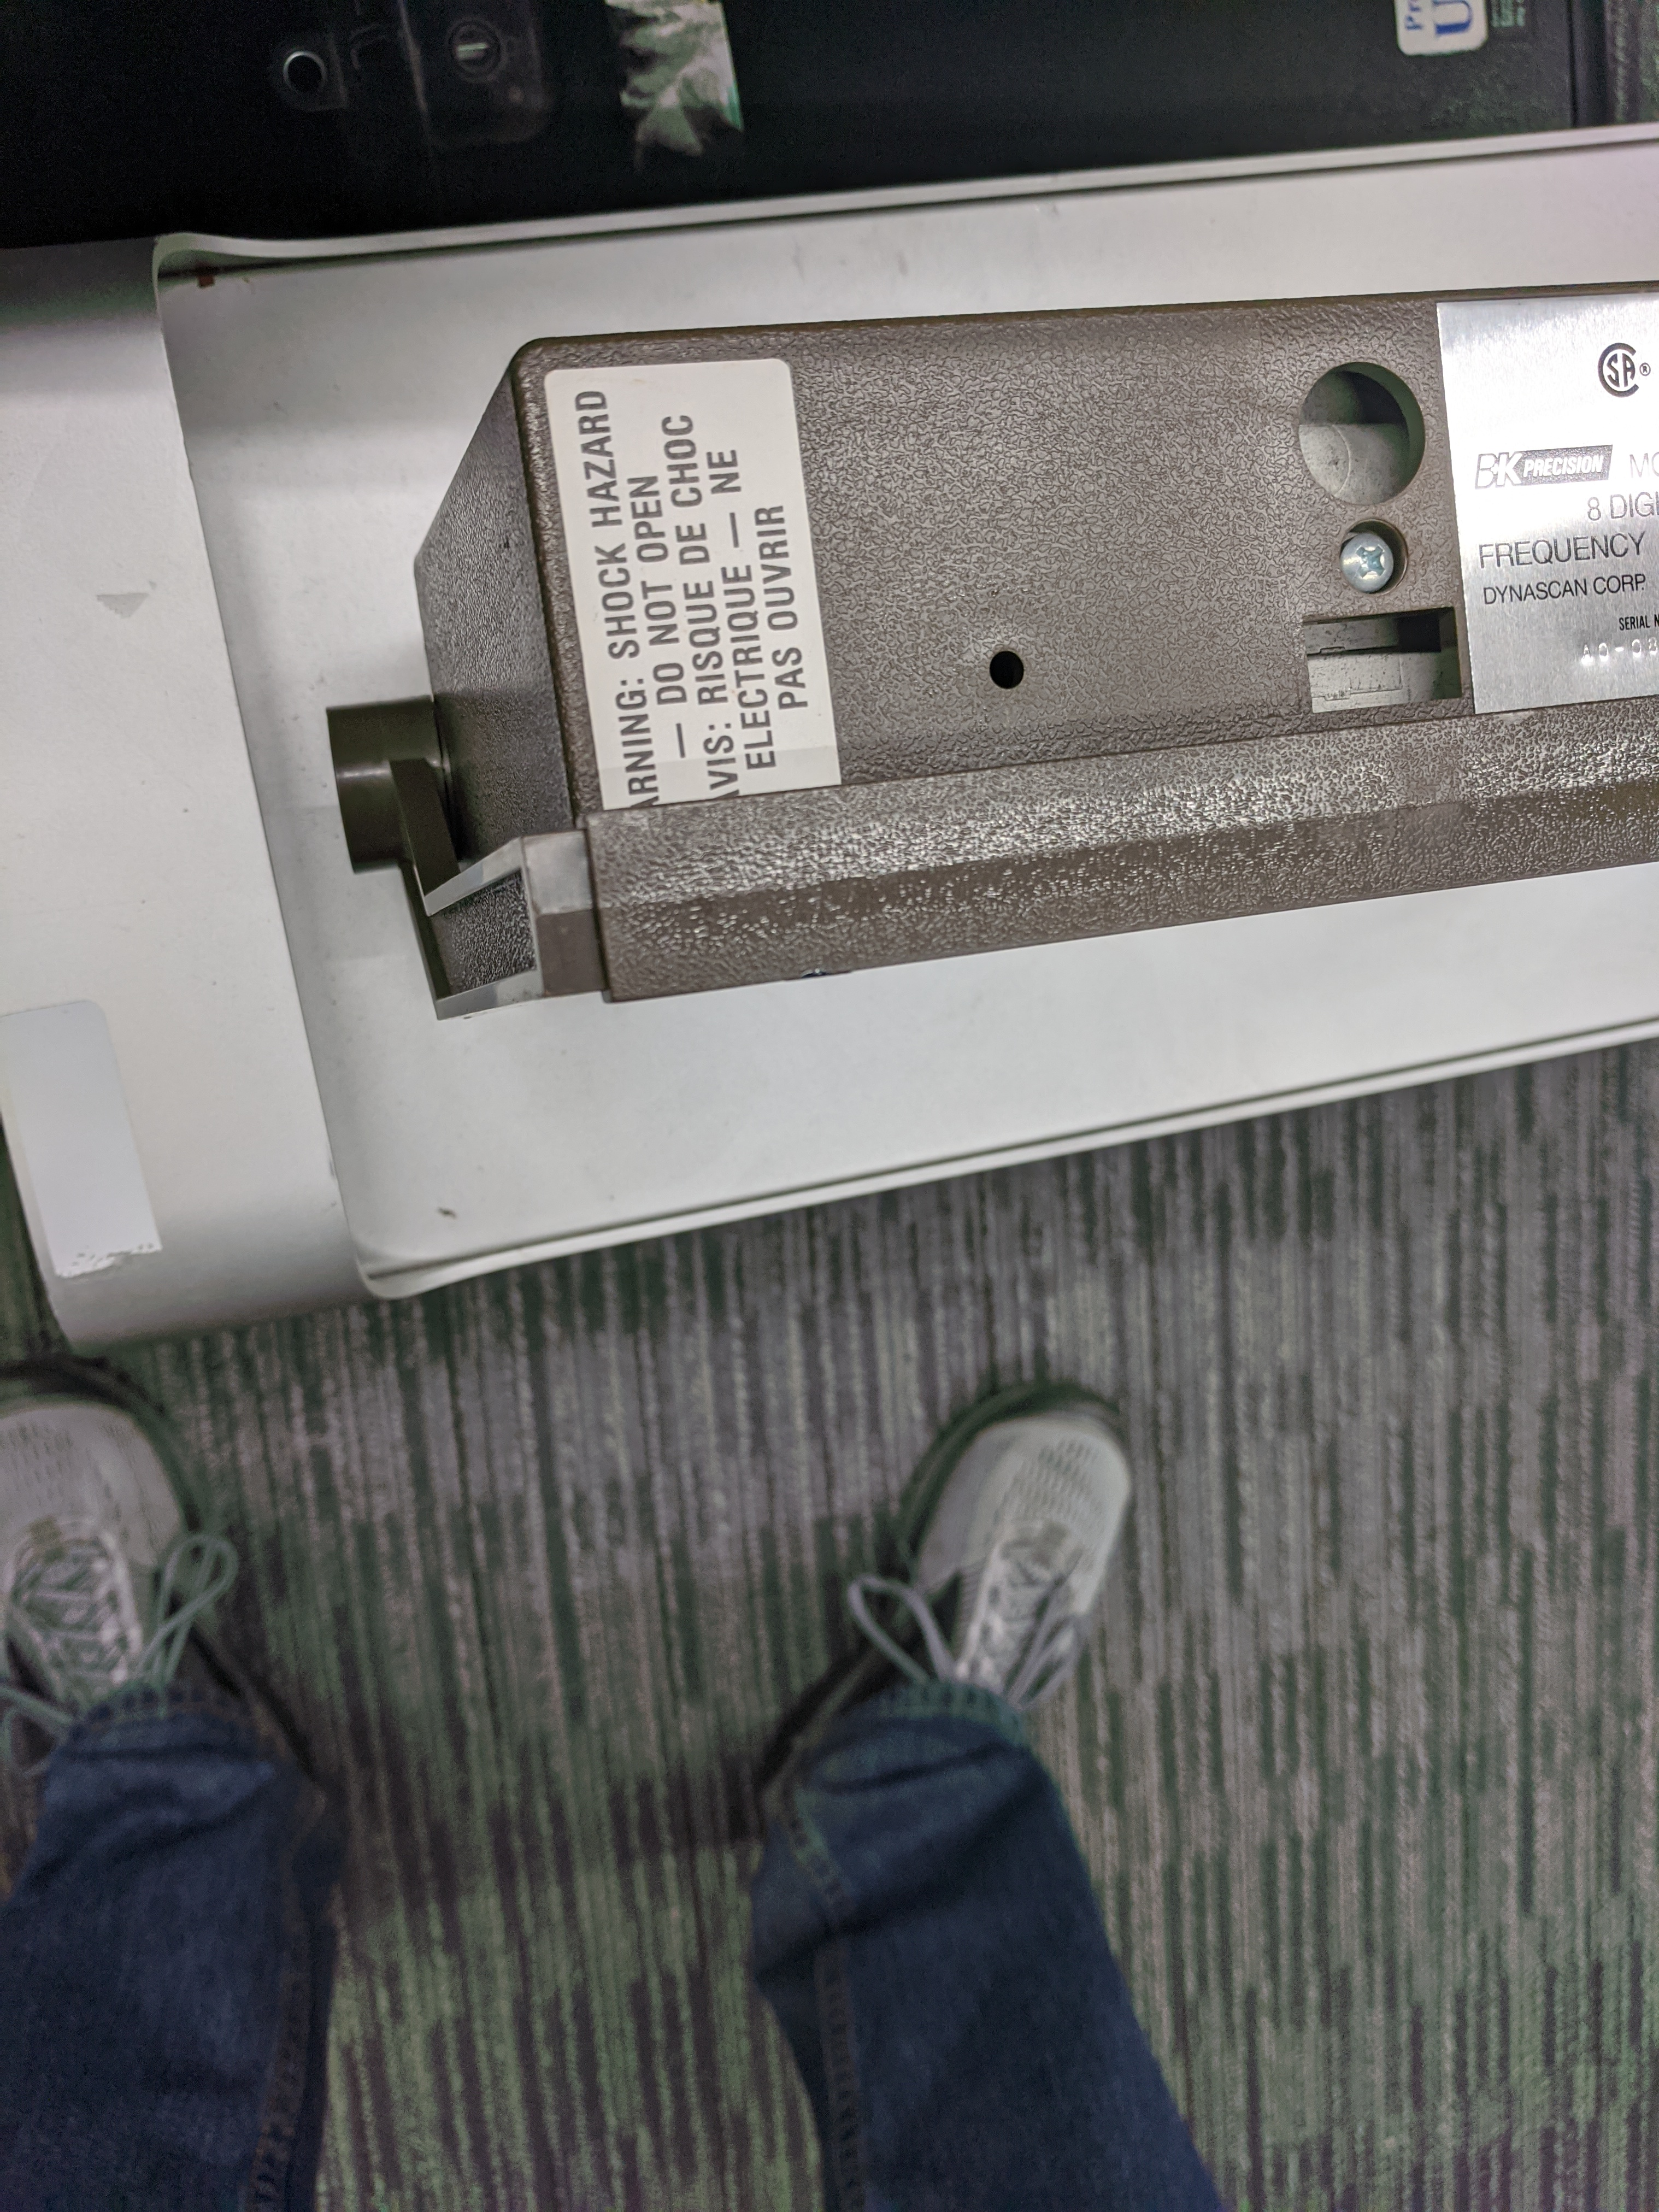cross_recessed_screw: (1328, 510, 1399, 589)
